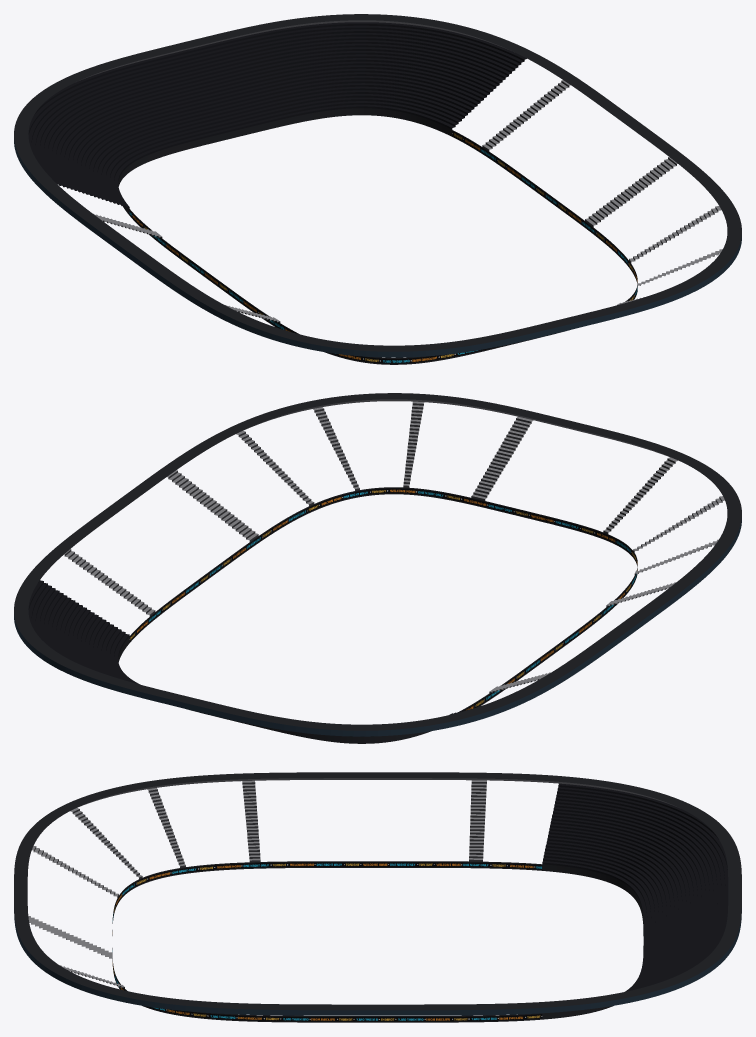
File: BowlLower.obj
3 renders of one model, top to bottom at view 1: azimuth 30°, elevation 25°; view 2: azimuth 150°, elevation 25°; view 3: azimuth 270°, elevation 25°, orthographic. The views are drawn at different scales.
Parts seen in each view (by area): view 1: BowlLower; view 2: BowlLower; view 3: BowlLower.
Part boxes in pixels (x1,y1,x2,y2): BowlLower: [14, 14, 741, 364]; BowlLower: [14, 393, 741, 743]; BowlLower: [14, 772, 741, 1022].
Bounding box in the file's own units: 123 × 13 × 159.
3 materials, 3 textured.
